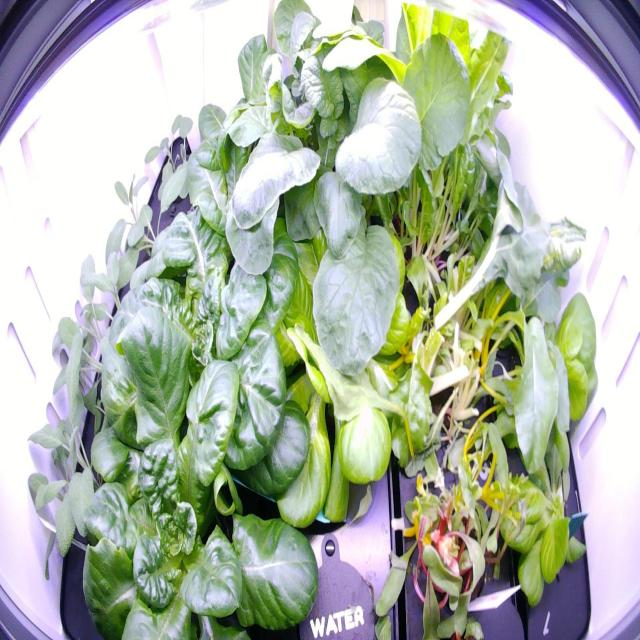Ready: (48, 292, 330, 638), (95, 175, 322, 442)
